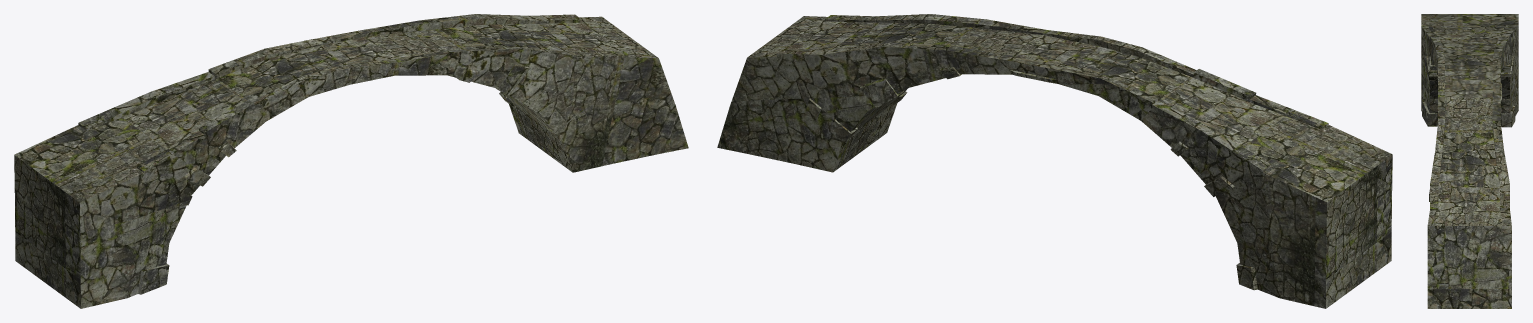
File: bridge.obj
3 views of the same model, side by side, from view 1: azimuth 30°, elevation 25°; view 2: azimuth 150°, elevation 25°; view 3: azimuth 270°, elevation 25° (orthographic). The views are drawn at different scales.
Visible parts, largest first — view 1: Cube; view 2: Cube; view 3: Cube.
Part boxes in pixels (<box>): Cube: <box>14,14,688,308</box>; Cube: <box>717,14,1392,308</box>; Cube: <box>1421,14,1518,308</box>.
Bounding box in the file's own units: 28.99 × 7.47 × 5.37.
